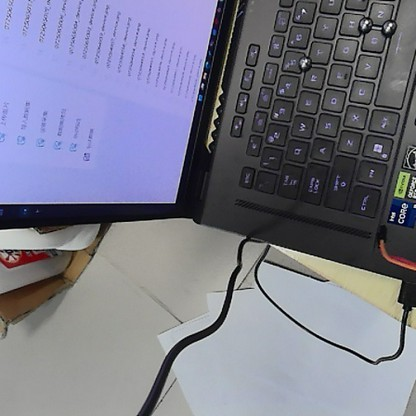ironball: (296, 52, 316, 72), (380, 16, 398, 36), (355, 15, 373, 32)
